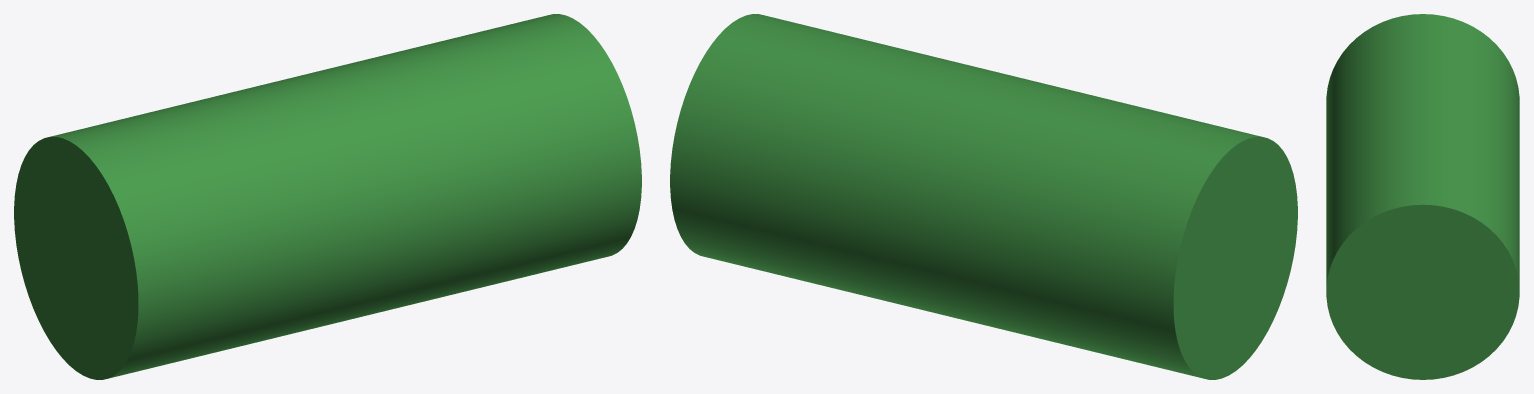
Rendered from EBoxNewAsm_stp_1_MainFuse_stp_1_solid1.obj.
3 views of the same model, side by side, from view 1: azimuth 30°, elevation 25°; view 2: azimuth 150°, elevation 25°; view 3: azimuth 270°, elevation 25° (orthographic). The views are drawn at different scales.
Visible parts, largest first — view 1: mesh16147, mesh16146; view 2: mesh16147, mesh16146; view 3: mesh16147, mesh16148.
Boxes of the visible parts, left/top/right/bottom form: mesh16147: left=51, top=14, right=641, bottom=378; mesh16146: left=14, top=136, right=138, bottom=379; mesh16147: left=670, top=14, right=1260, bottom=378; mesh16146: left=1173, top=136, right=1297, bottom=379; mesh16147: left=1326, top=14, right=1519, bottom=286; mesh16148: left=1326, top=204, right=1519, bottom=379.
Bounding box in the file's own units: 0.07 × 0.03 × 0.03.
